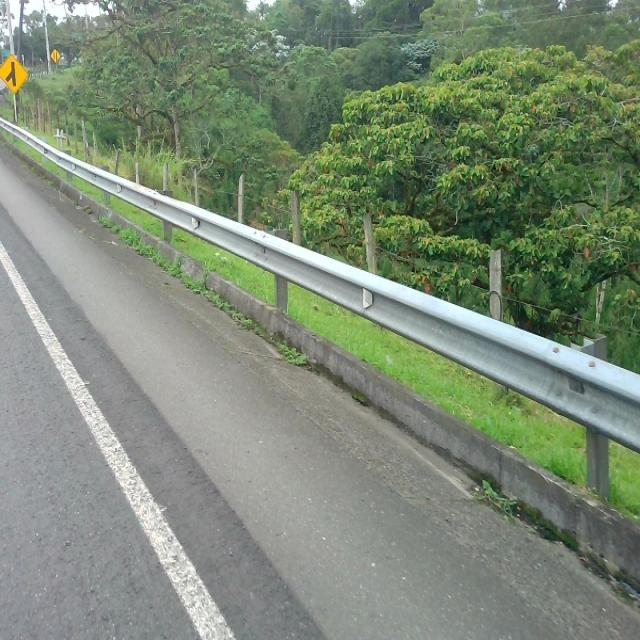DITCH: (3, 5, 636, 638), (1, 139, 638, 638)
